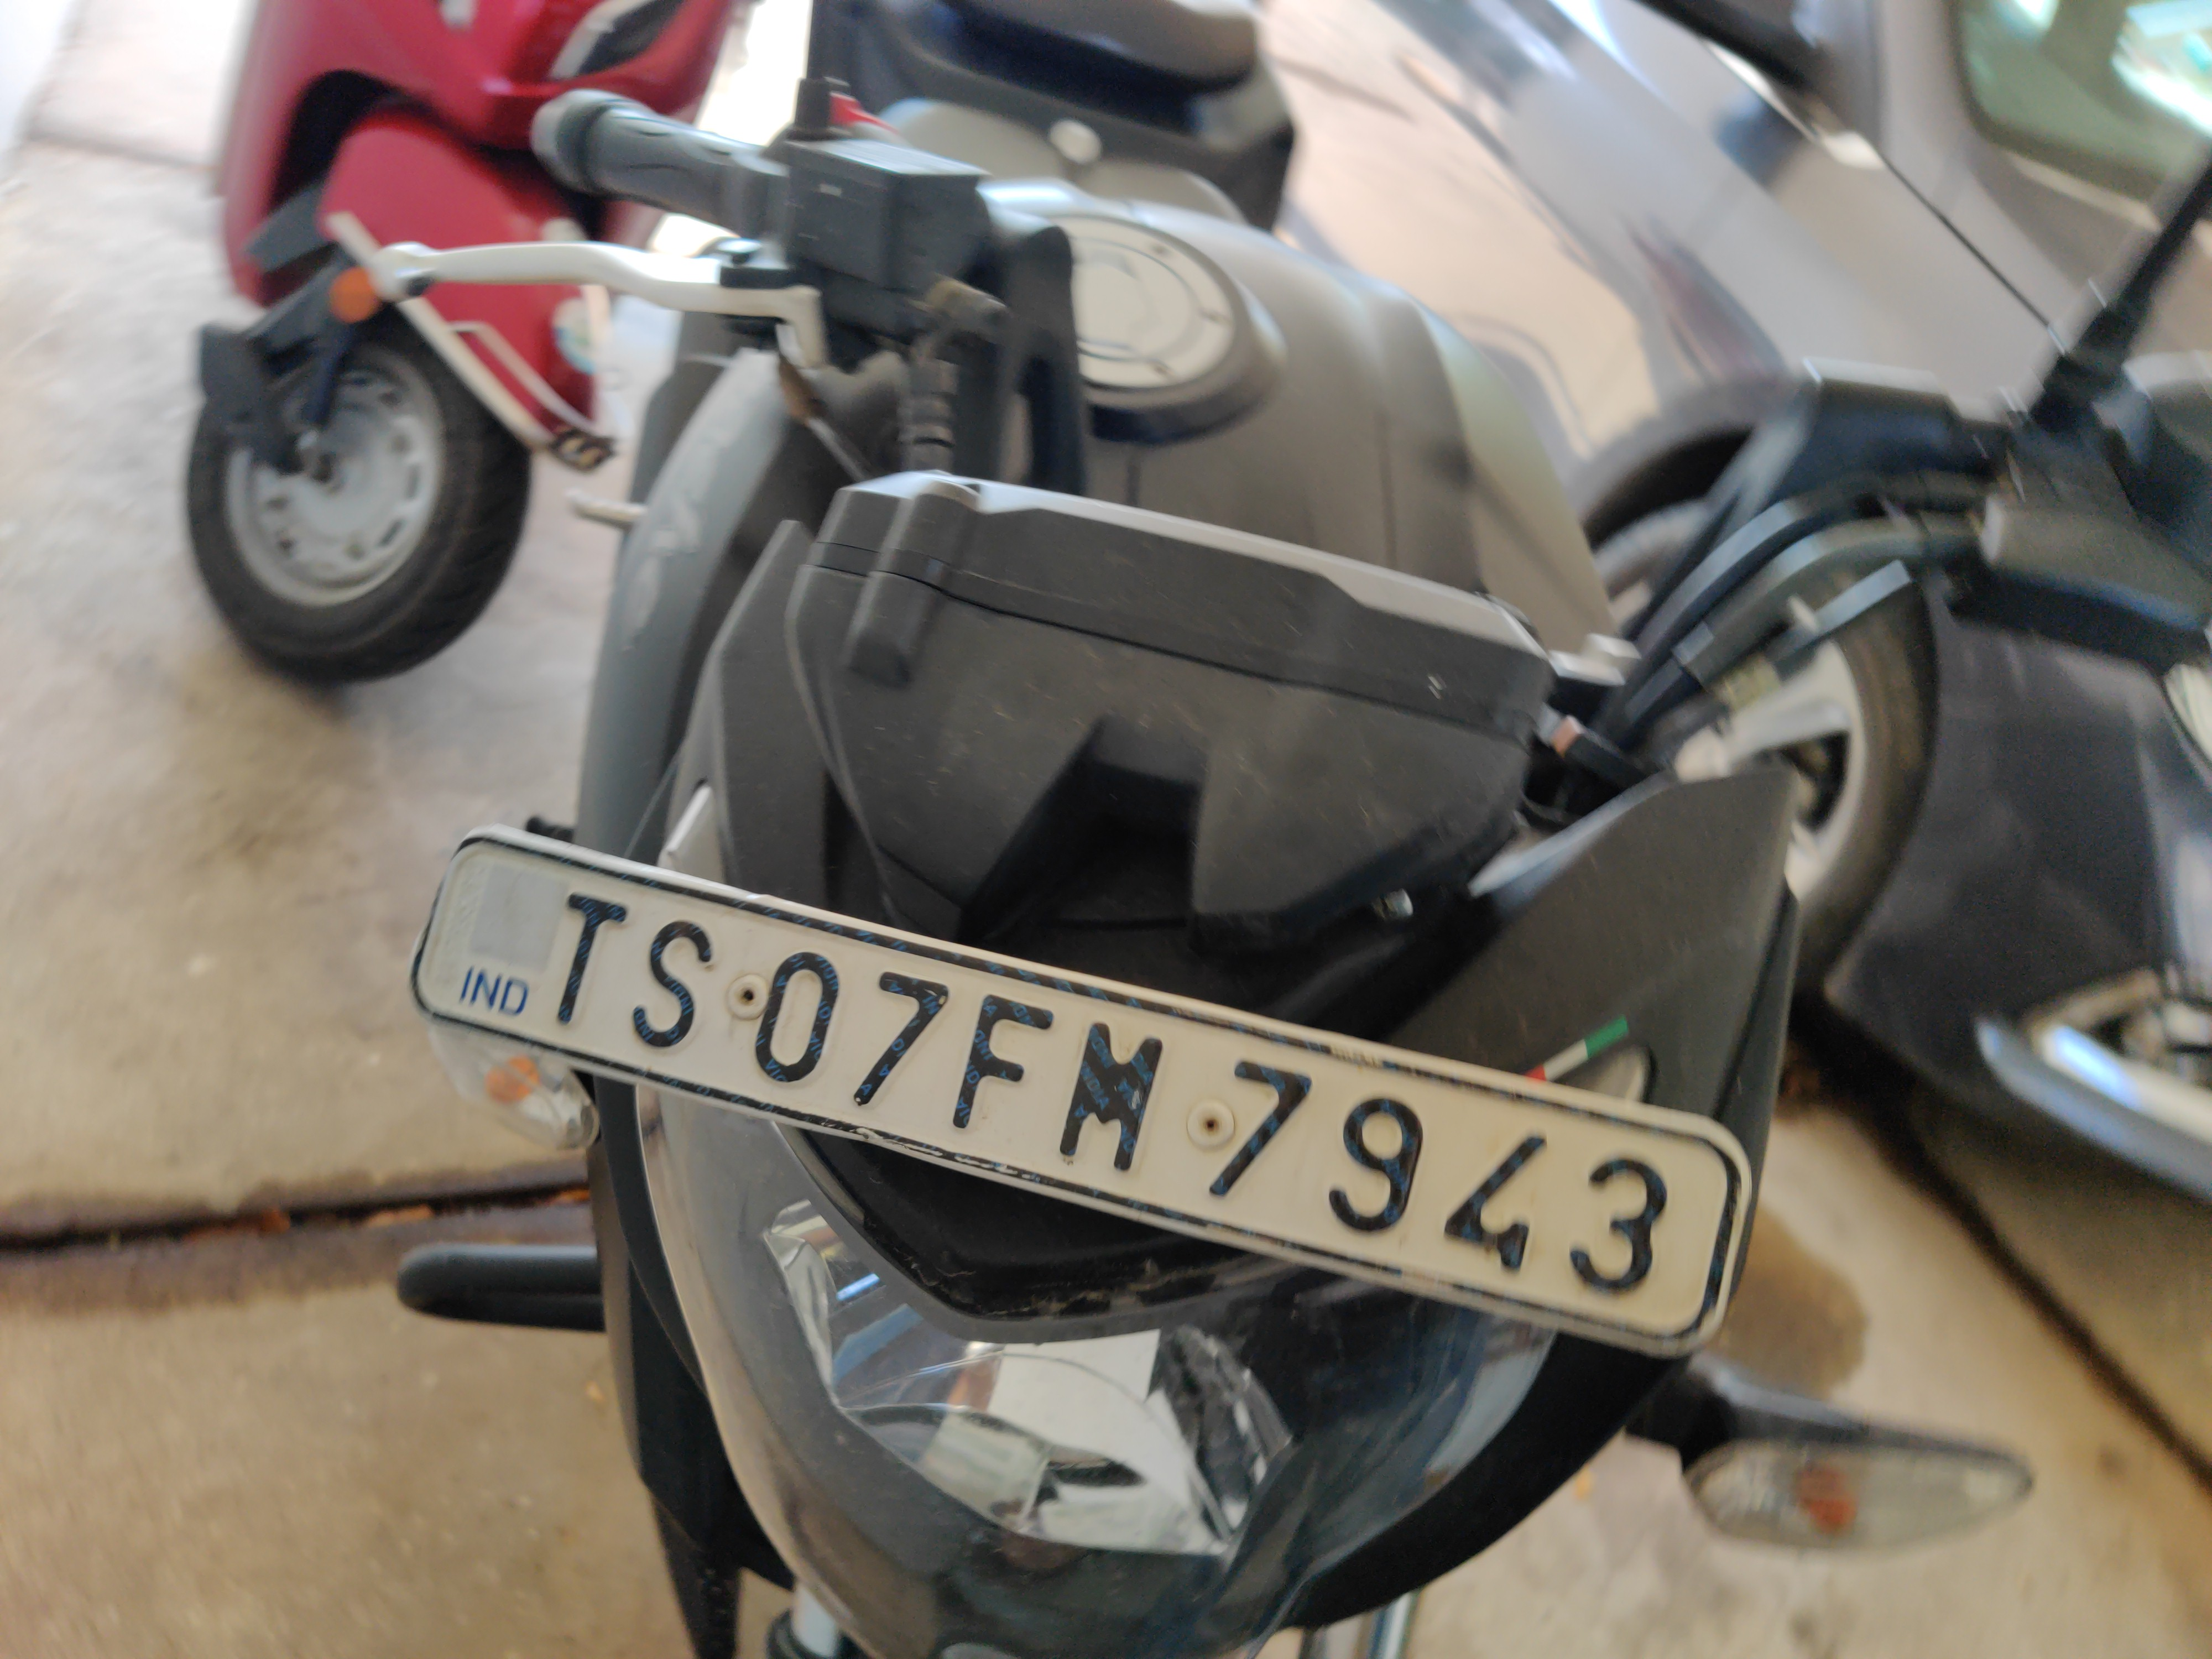plate: (383, 790, 1834, 1453)
